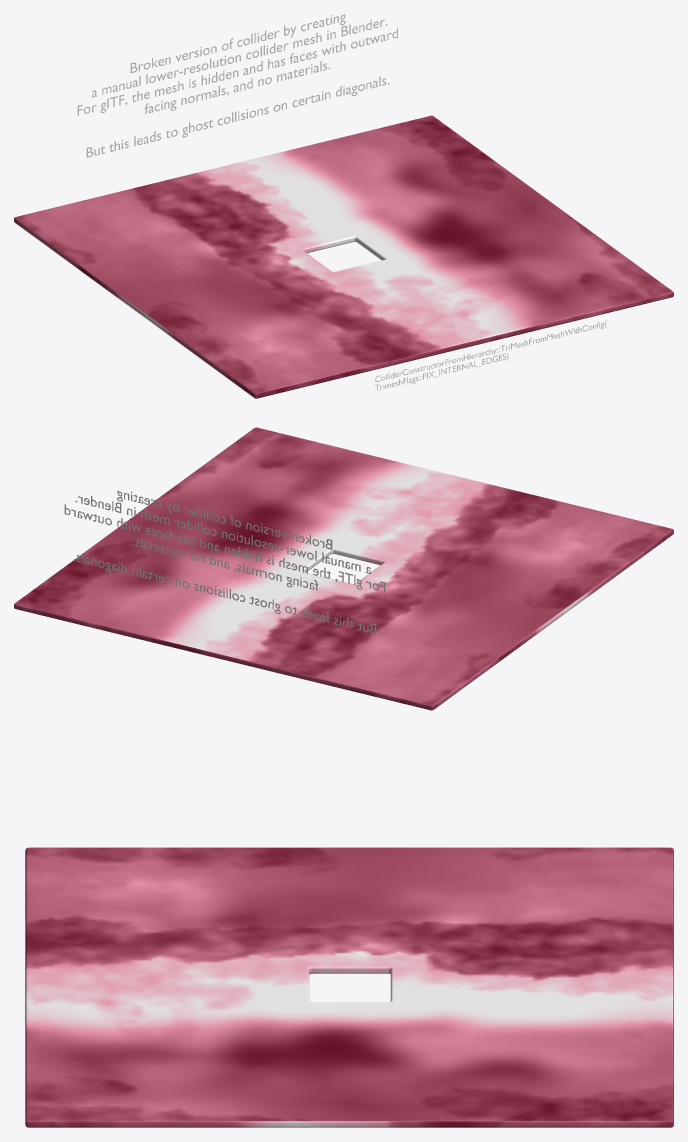
The model's file is level_0_broken.glb.
3 renders of one model, top to bottom at view 1: azimuth 30°, elevation 25°; view 2: azimuth 150°, elevation 25°; view 3: azimuth 270°, elevation 25°, orthographic. The views are drawn at different scales.
Parts seen in each view (by area): view 1: Floor, Text.008, Text.011; view 2: Floor, Text.008; view 3: Floor.
Boxes of the visible parts, x1=… form: Floor: x1=14, y1=115, x2=673, y2=398; Text.008: x1=77, y1=14, x2=397, y2=157; Text.011: x1=375, y1=320, x2=606, y2=390; Floor: x1=14, y1=427, x2=673, y2=710; Text.008: x1=64, y1=491, x2=385, y2=634; Floor: x1=25, y1=847, x2=673, y2=1127.
Size of what is drawn, in the model's own units: 29.71 by 10.67 by 30.24.
Materials: 2 (1 with a texture image).
